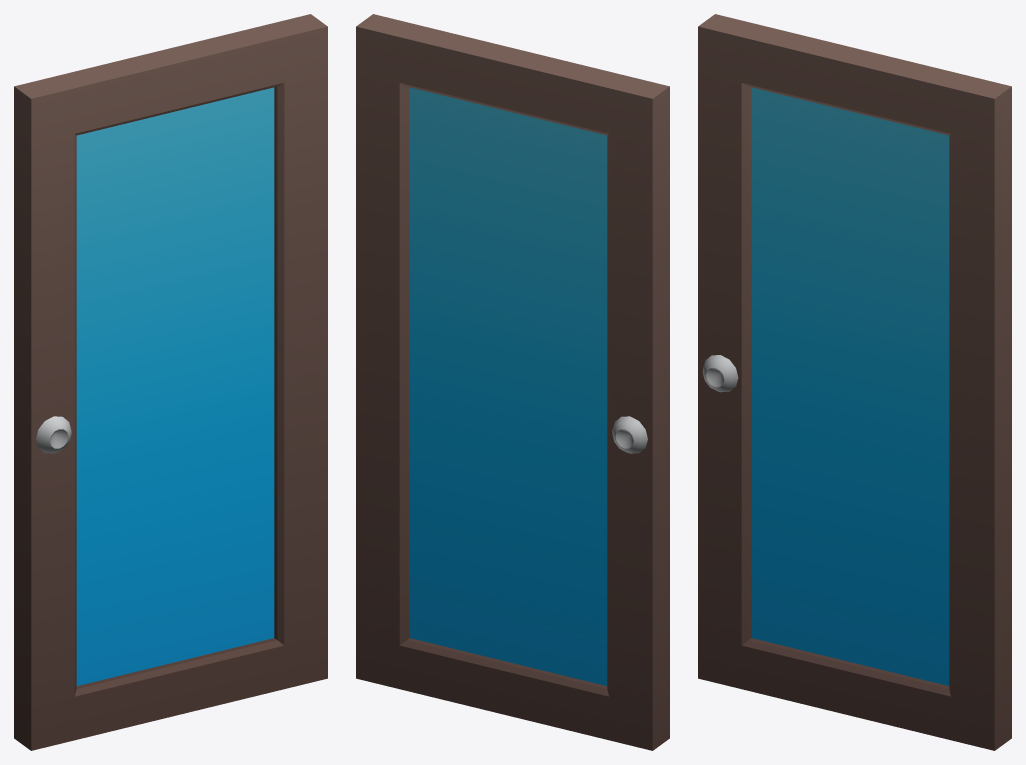
Rendered from Door_Brown_05.glb.
3 renders of one model, left to right at view 1: azimuth 30°, elevation 25°; view 2: azimuth 150°, elevation 25°; view 3: azimuth 330°, elevation 25°, orthographic.
Visible parts, largest first — view 1: Door_Brown_05; view 2: Door_Brown_05; view 3: Door_Brown_05.
Boxes of the visible parts, bbox=[...] form: Door_Brown_05: bbox=[14, 14, 327, 750]; Door_Brown_05: bbox=[356, 14, 669, 750]; Door_Brown_05: bbox=[698, 14, 1011, 750].
Size of the model in its own units: 1 by 2.1 by 0.1634.
Materials: 2 (2 with a texture image).
